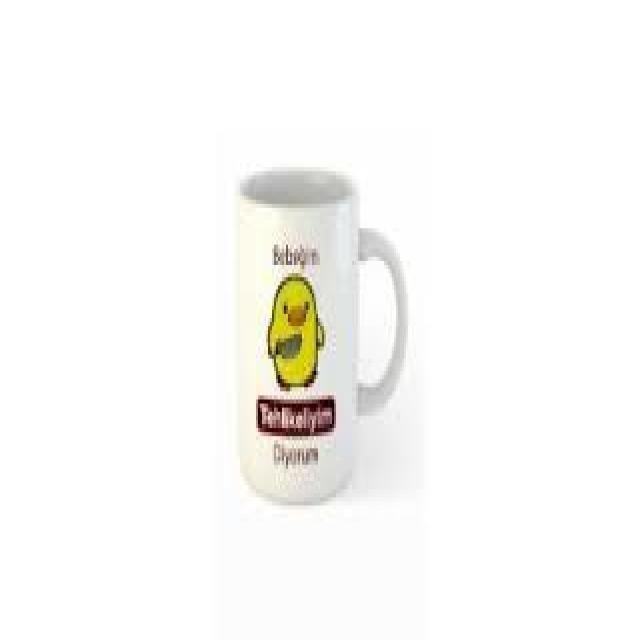taza: (237, 167, 408, 506)
